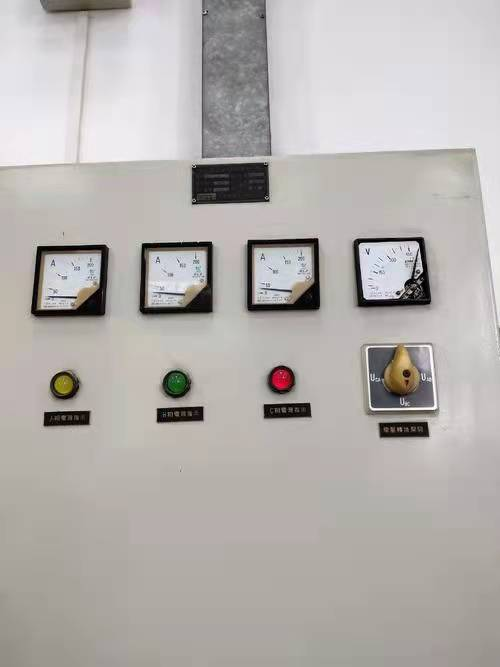pointer: (248, 240, 318, 307), (355, 240, 427, 305), (142, 243, 211, 309), (36, 246, 105, 311)
